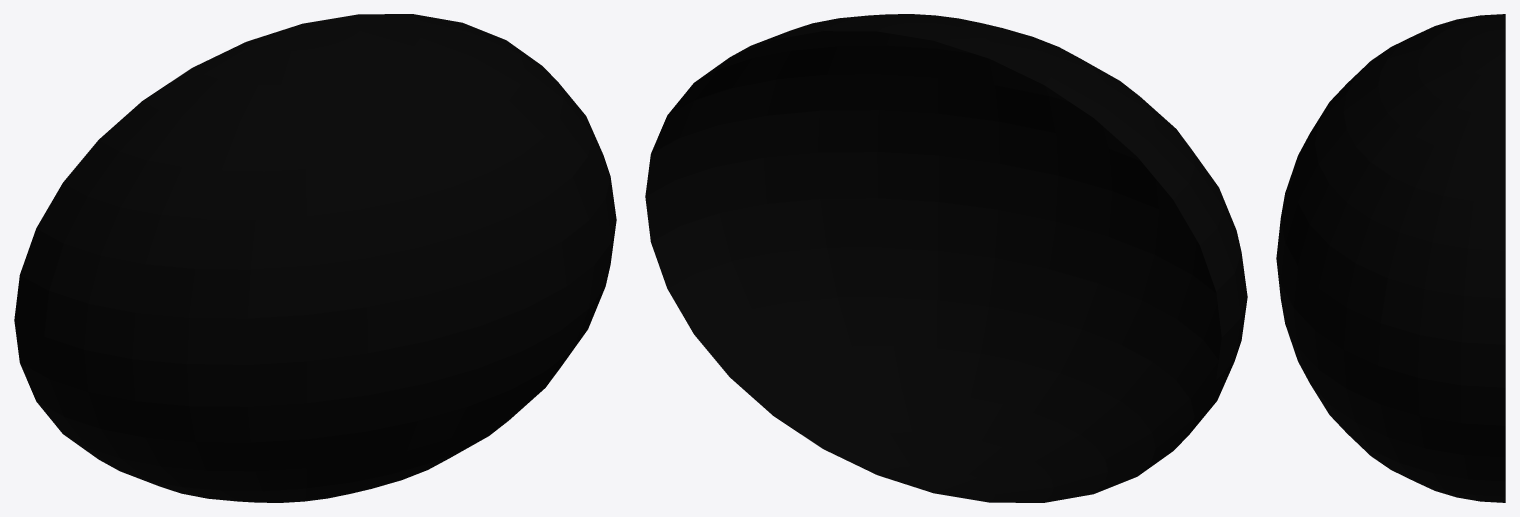
Rendered from cockpit-front.obj.
3 views of the same model, side by side, from view 1: azimuth 30°, elevation 25°; view 2: azimuth 150°, elevation 25°; view 3: azimuth 270°, elevation 25° (orthographic). The views are drawn at different scales.
Visible parts, largest first — view 1: 球體; view 2: 球體; view 3: 球體.
Part boxes in pixels (x1,y1,x2,y2): 球體: [14, 14, 616, 502]; 球體: [645, 14, 1247, 502]; 球體: [1276, 14, 1505, 502].
Size of the model in its own units: 2.4 by 1.8 by 0.9.
Materials: 1 (1 with a texture image).
